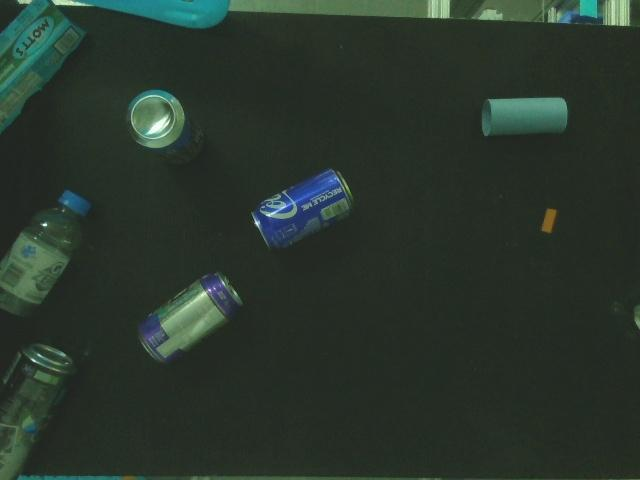cardboard: (0, 0, 85, 142), (479, 93, 568, 138)
metal: (136, 267, 244, 365), (0, 339, 74, 480), (250, 166, 356, 257), (123, 88, 208, 167)
plastic: (0, 188, 94, 320), (538, 206, 560, 236)
